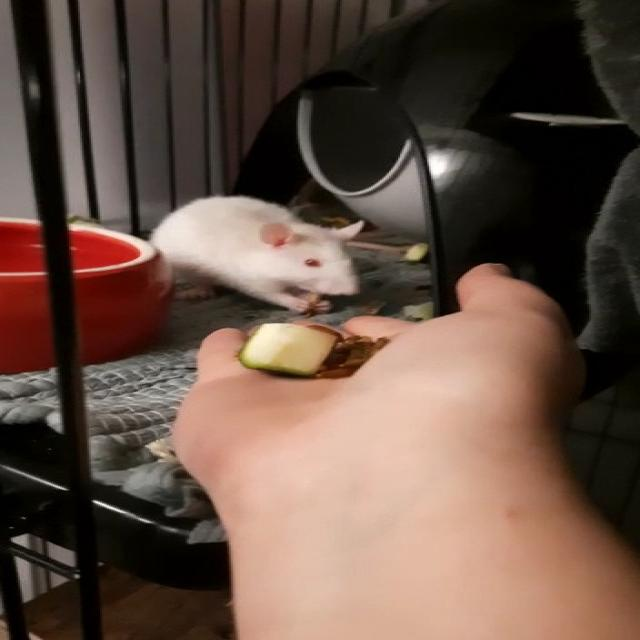rat: (153, 198, 374, 316)
